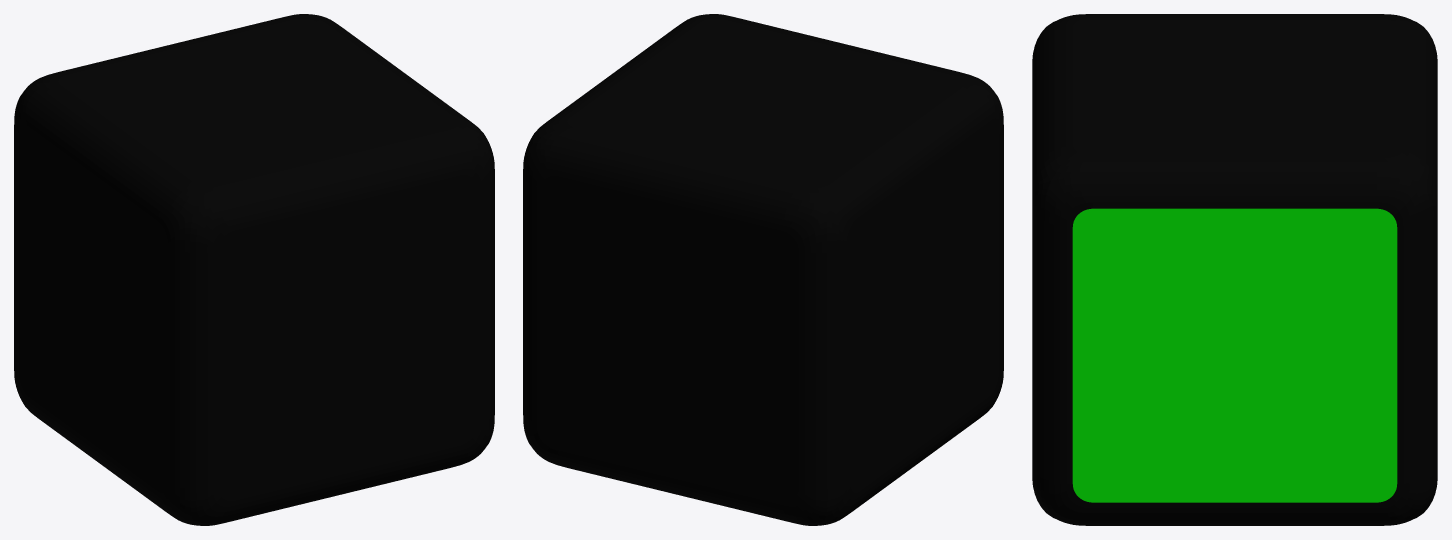
3 views of the same model, side by side, from view 1: azimuth 30°, elevation 25°; view 2: azimuth 150°, elevation 25°; view 3: azimuth 270°, elevation 25° (orthographic). The views are drawn at different scales.
Visible parts, largest first — view 1: gy; view 2: gy; view 3: gy.
Boxes of the visible parts, left/top/right/bottom form: gy: left=14, top=14, right=494, bottom=525; gy: left=523, top=14, right=1003, bottom=525; gy: left=1032, top=14, right=1437, bottom=525.
Bounding box in the file's own units: 100 × 100 × 100.
